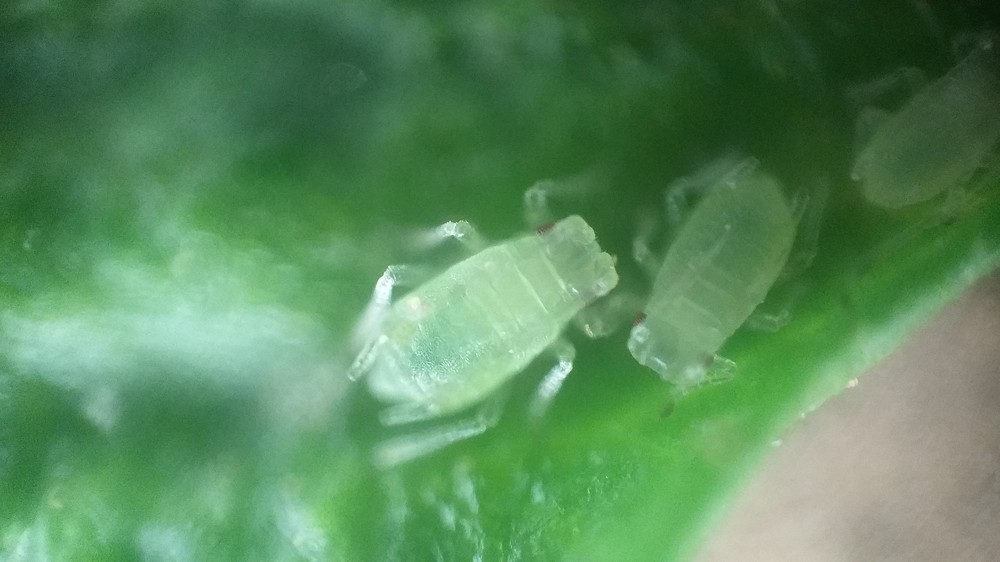Pulgon: (305, 154, 625, 474), (596, 121, 851, 409), (826, 4, 1000, 243)
